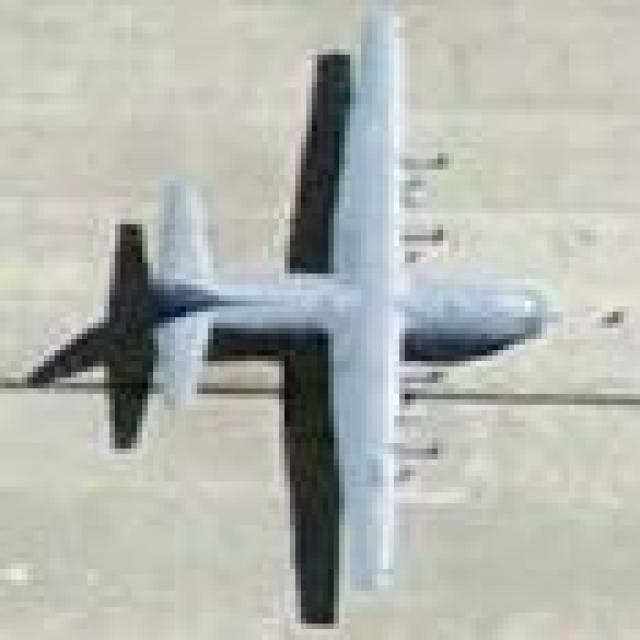C-130_TopDown: (29, 0, 568, 624)
